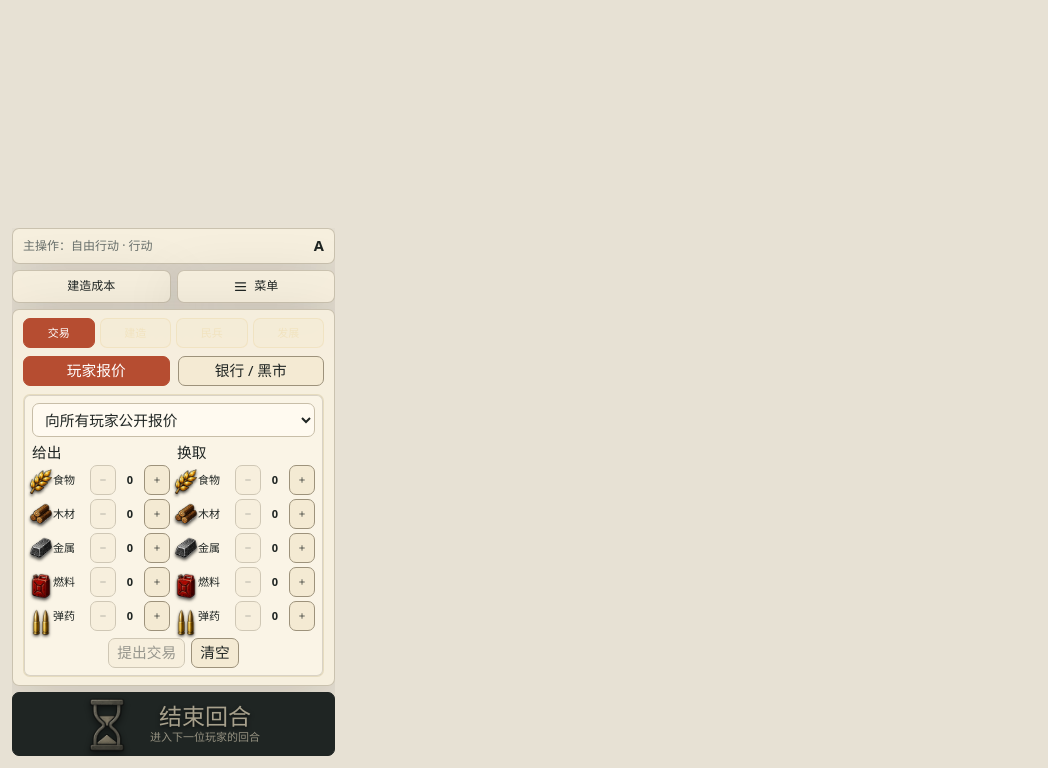
Test: RightOperationDock › uses recruit and activate wording in the militia panel
This screenshot has width=1048, height=768.
Click the tab "民兵": {"x": 212, "y": 333} [176,318,248,348]
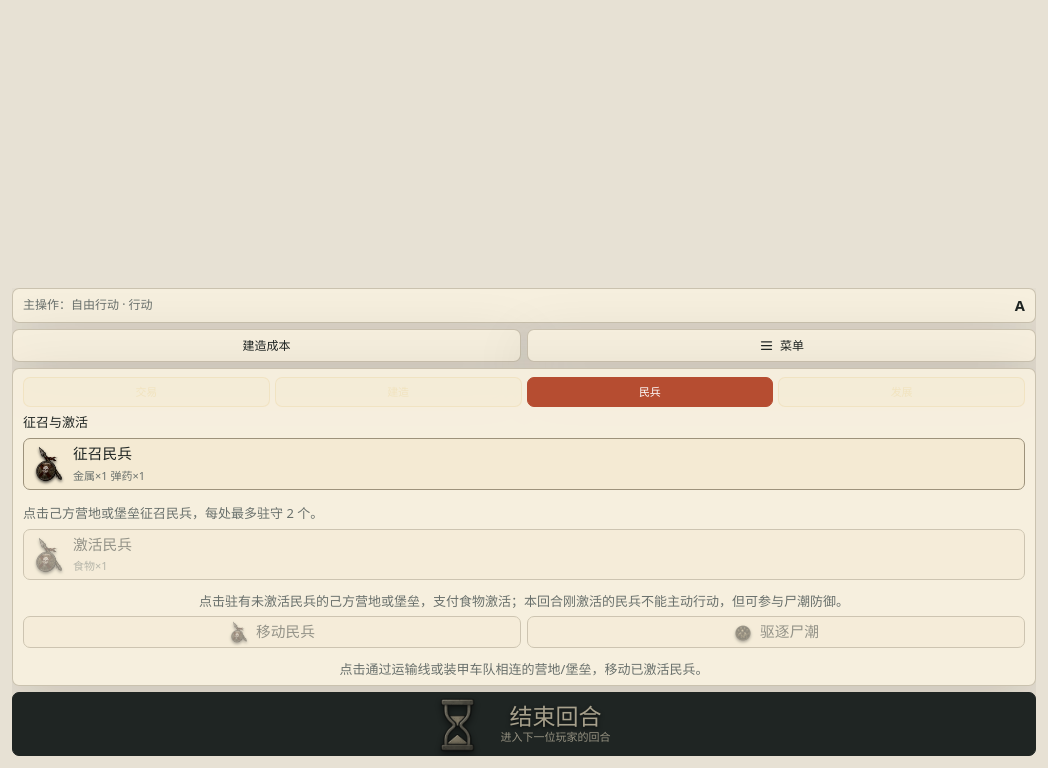
Check: the heading "征召与激活" is shown, box [23,413,88,431]
Check: the button "征召民兵 金属×1 弹药×1" is shown, box [23,438,1025,490]
Check: the text "点击己方营地或堡垒征召民兵，每处最多驻守 2 个。" is shown, box [23,504,323,522]
